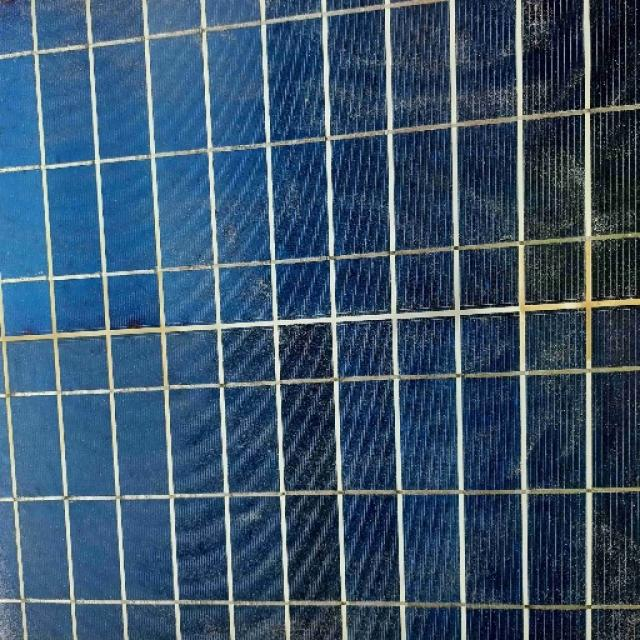Dirty: (0, 0, 623, 430)
